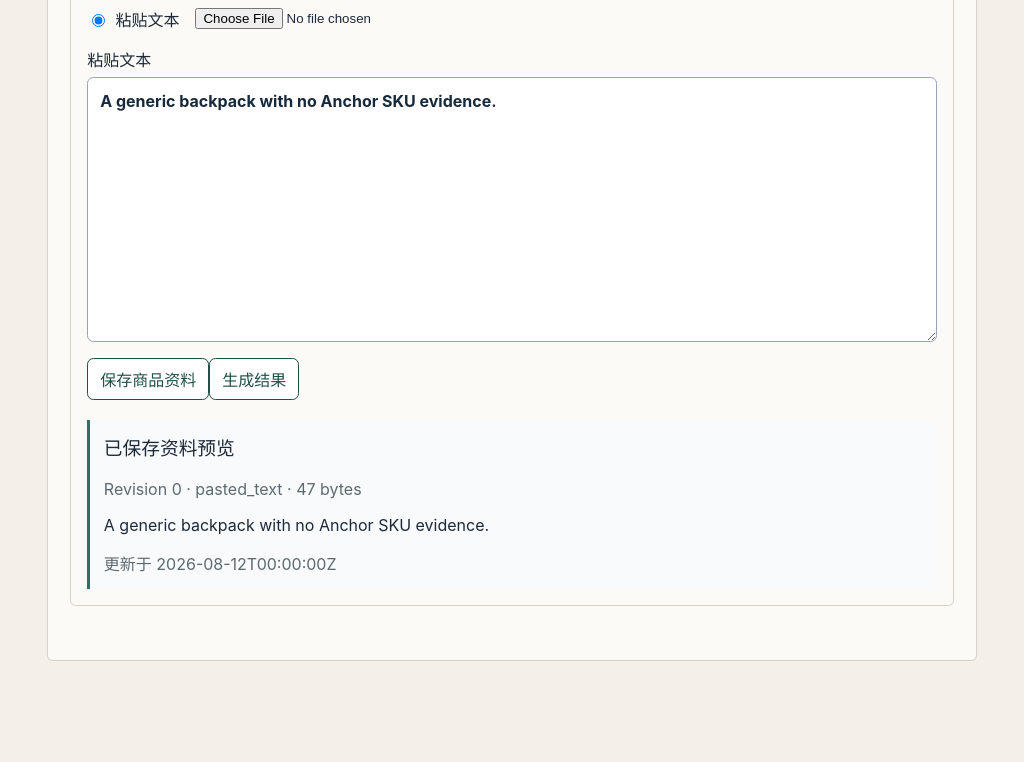
Scenario: TaskRoutes › renders an insufficient-input result without candidate panels
(page scrolled)
Click the button "生成结果" at {"x": 254, "y": 379}, box [209, 358, 299, 400]
(page scrolled)
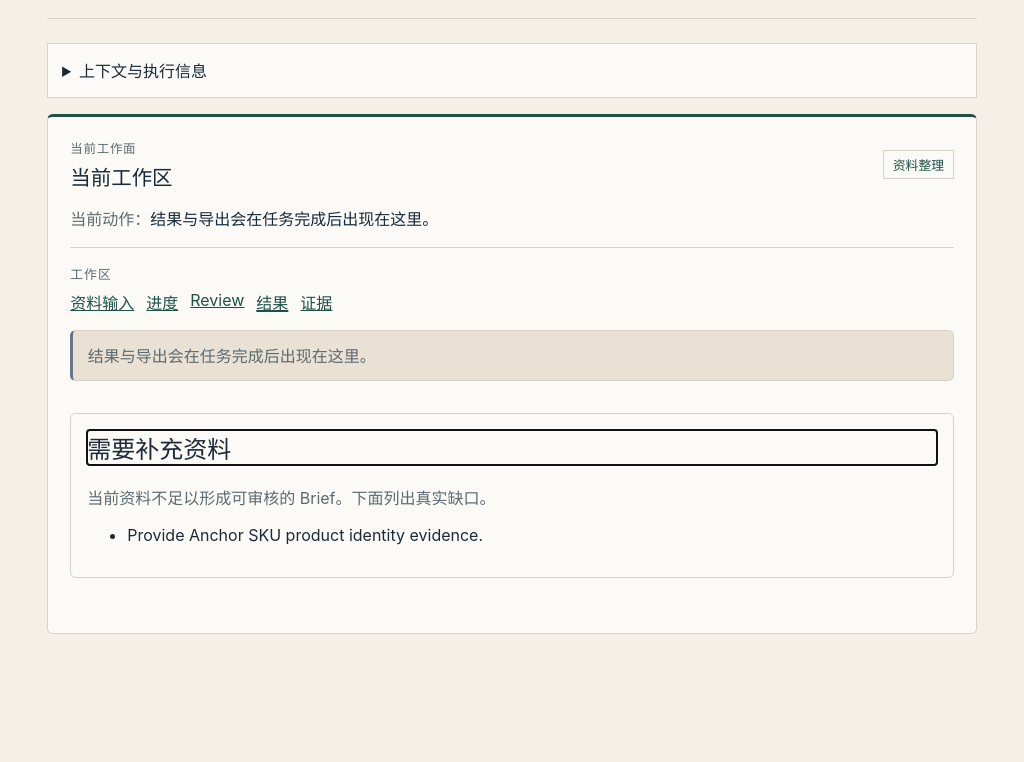
Expected: the heading "需要补充资料" is shown, [87, 435, 231, 464]
Expected: the list item "Provide Anchor SKU product identity evidence." is shown, [127, 525, 483, 545]
